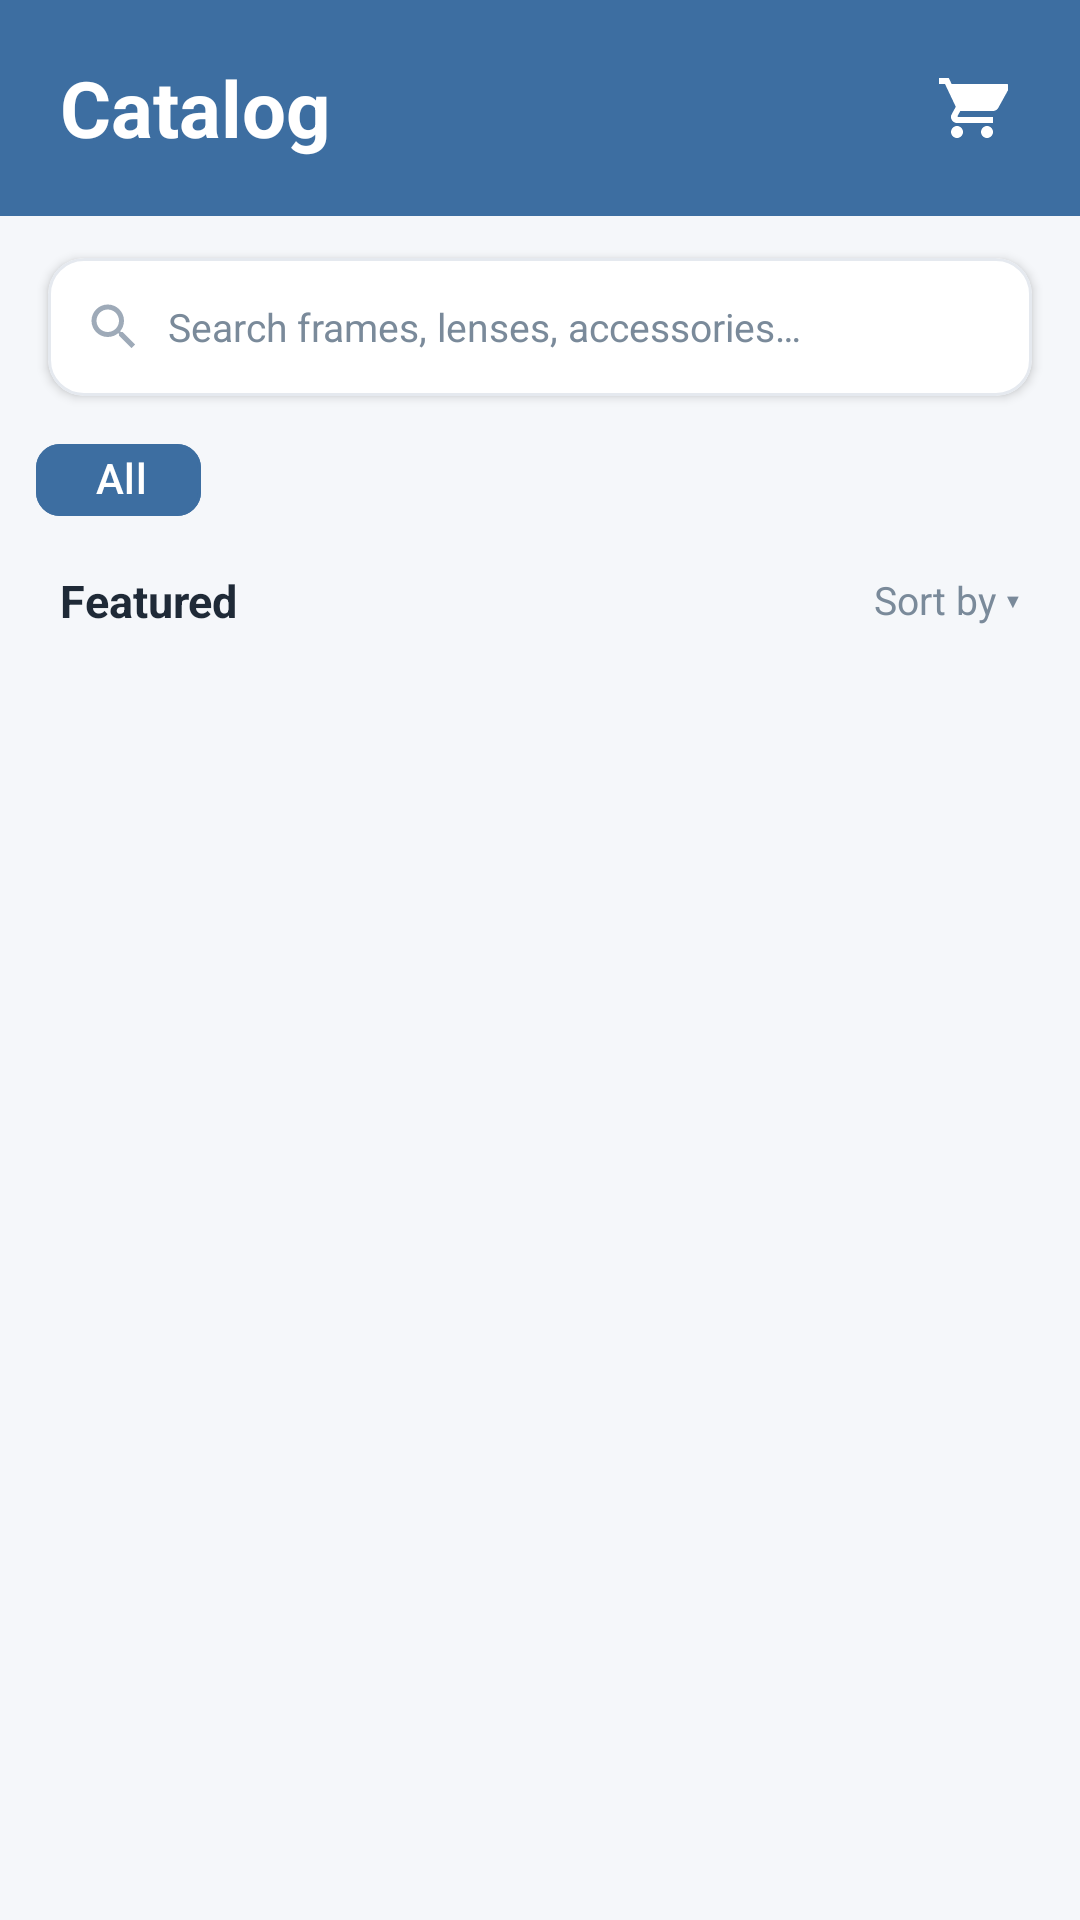

Where icons sit on this 1080w x 1920h app screen, as box(x1, y1, x2, y2):
Cart: box(939, 78, 1008, 138)
